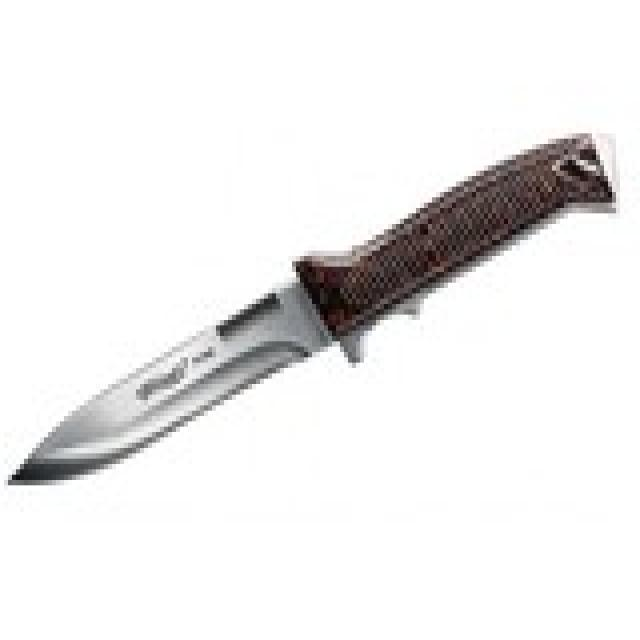Knife: (6, 122, 611, 504)
